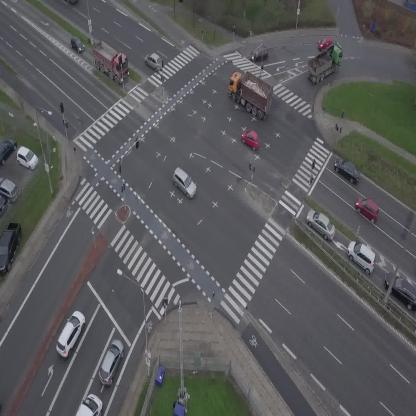car: (51, 308, 90, 359), (94, 337, 128, 388), (341, 237, 383, 276), (301, 205, 341, 243), (330, 154, 366, 186), (167, 166, 201, 199), (351, 193, 384, 224), (238, 125, 265, 152), (142, 49, 166, 73), (66, 34, 87, 56), (316, 33, 334, 51), (250, 46, 269, 61)
lorry: (219, 64, 281, 121), (83, 35, 138, 87), (300, 40, 351, 86), (76, 394, 102, 416)
